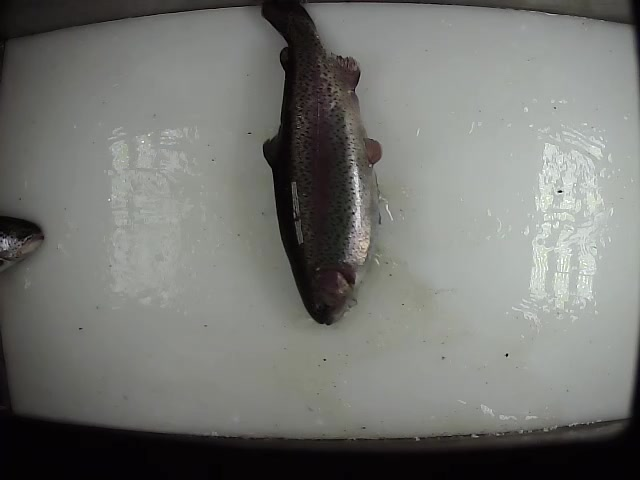fish: (259, 1, 384, 327)
